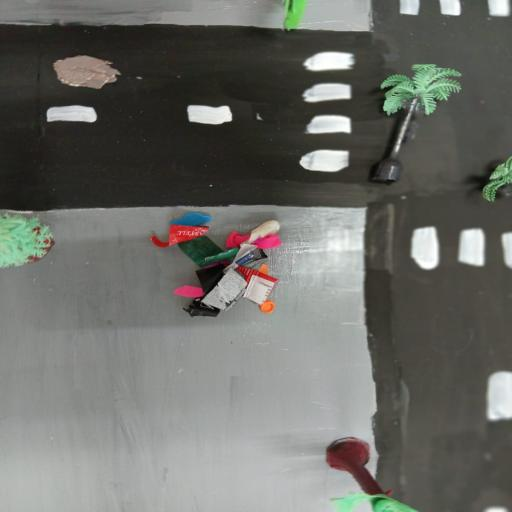fallen trees: (367, 63, 466, 185), (475, 154, 512, 208)
porthole: (48, 50, 130, 91)
trash: (146, 211, 299, 325)
